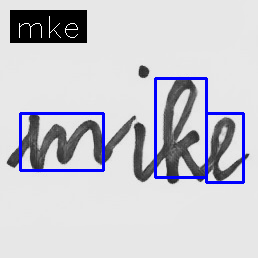e: (206, 115, 251, 184)
i: (127, 63, 151, 183)
k: (159, 74, 203, 187)
m: (24, 111, 105, 173)
